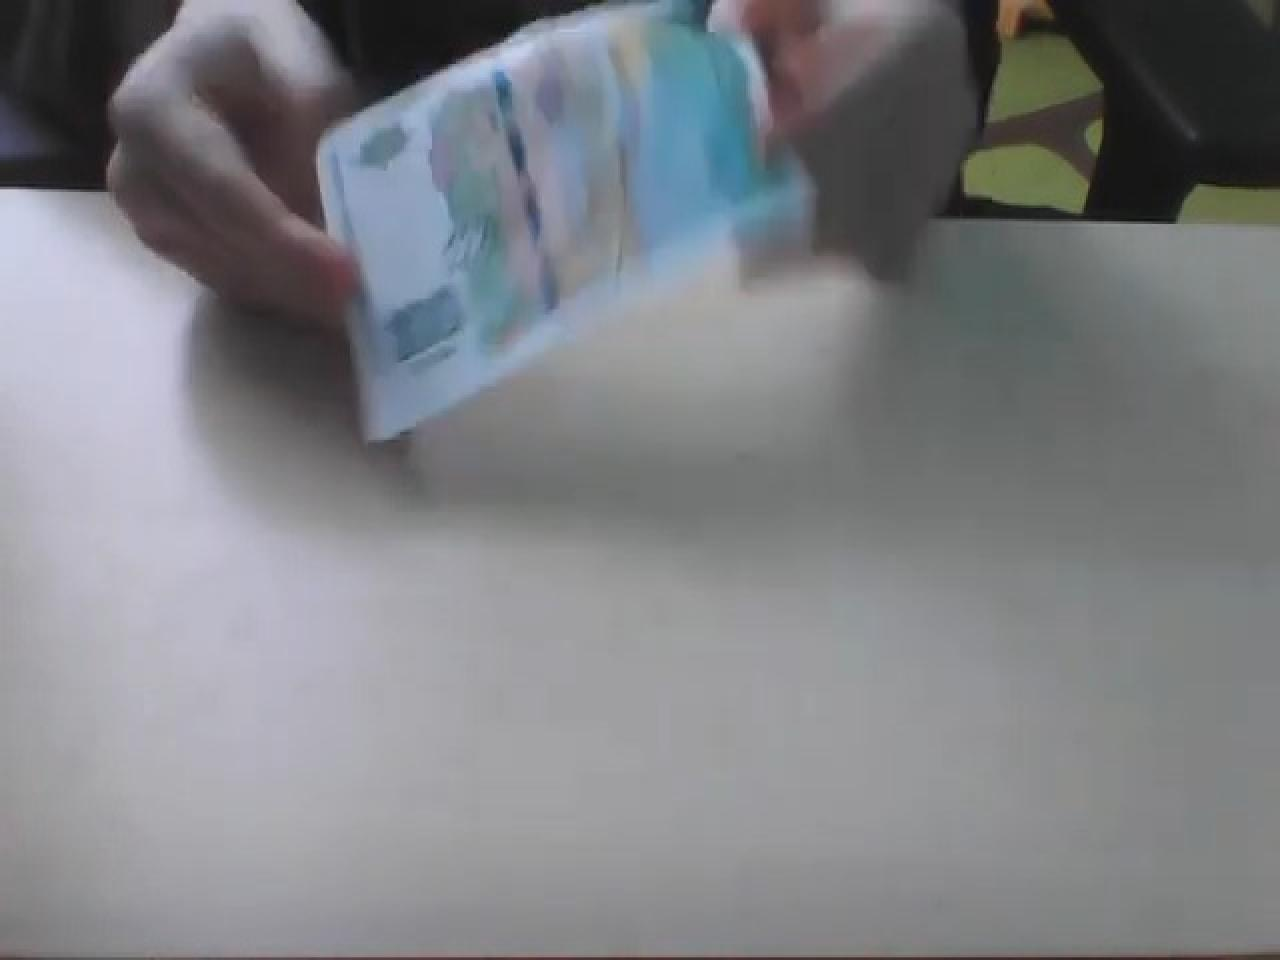100leva: (312, 0, 990, 445)
